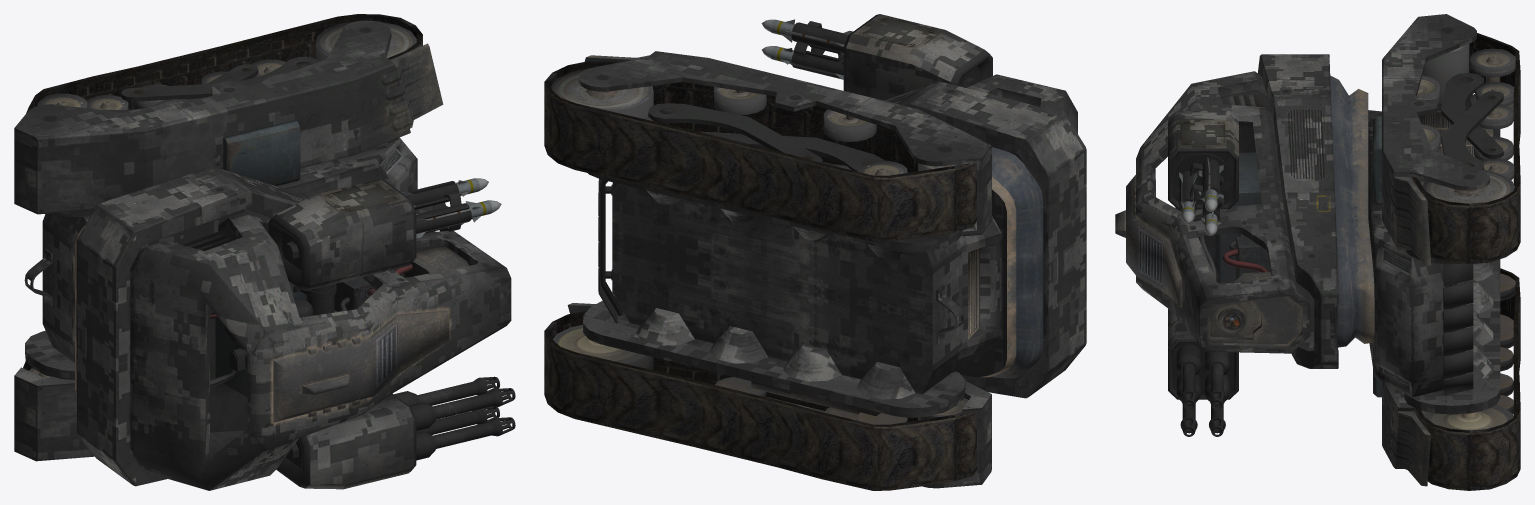
Rendered from veh_t6_drone_tank_alt_LOD0.obj.
3 views of the same model, side by side, from view 1: azimuth 30°, elevation 25°; view 2: azimuth 150°, elevation 25°; view 3: azimuth 270°, elevation 25° (orthographic). The views are drawn at different scales.
Visible parts, largest first — view 1: mtl_veh_t6_drone_tank_alt, mtl_veh_t6_asd_tread_left, mtl_veh_t6_drone_tank_wheels, mtl_veh_t6_drone_tank_missile; view 2: mtl_veh_t6_drone_tank_alt, mtl_veh_t6_asd_tread_left, mtl_veh_t6_drone_tank_wheels, mtl_veh_t6_drone_tank_missile; view 3: mtl_veh_t6_drone_tank_alt, mtl_veh_t6_asd_tread_left, mtl_veh_t6_drone_tank_wheels, mtl_veh_t6_drone_tank_missile.
Boxes of the visible parts, left/top/right/bottom form: mtl_veh_t6_drone_tank_alt: left=14, top=20, right=515, bottom=490; mtl_veh_t6_asd_tread_left: left=23, top=14, right=422, bottom=370; mtl_veh_t6_drone_tank_wheels: left=29, top=21, right=416, bottom=377; mtl_veh_t6_drone_tank_missile: left=402, top=178, right=501, bottom=238; mtl_veh_t6_drone_tank_alt: left=567, top=14, right=1086, bottom=488; mtl_veh_t6_asd_tread_left: left=544, top=61, right=976, bottom=490; mtl_veh_t6_drone_tank_wheels: left=551, top=68, right=968, bottom=424; mtl_veh_t6_drone_tank_missile: left=761, top=19, right=852, bottom=79; mtl_veh_t6_drone_tank_alt: left=1115, top=14, right=1503, bottom=486; mtl_veh_t6_asd_tread_left: left=1411, top=33, right=1520, bottom=490; mtl_veh_t6_drone_tank_wheels: left=1417, top=44, right=1515, bottom=430; mtl_veh_t6_drone_tank_missile: left=1179, top=157, right=1223, bottom=235.
Bounding box in the file's own units: 104 × 76.81 × 94.9.
